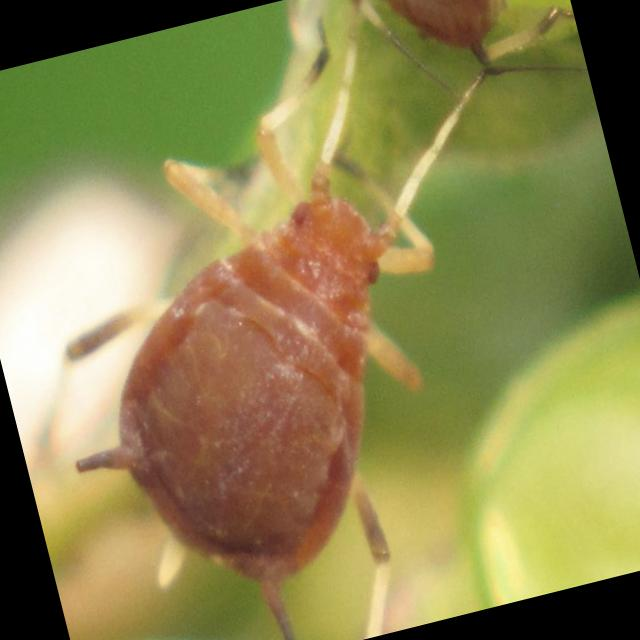Aphids: (0, 24, 568, 640)
